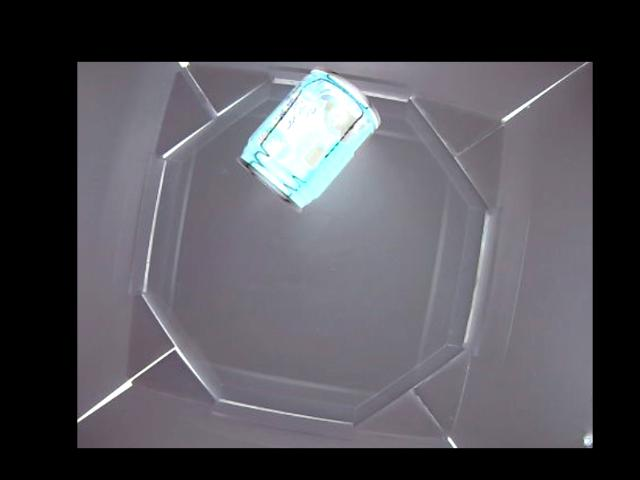Bottle: (239, 70, 382, 209)
